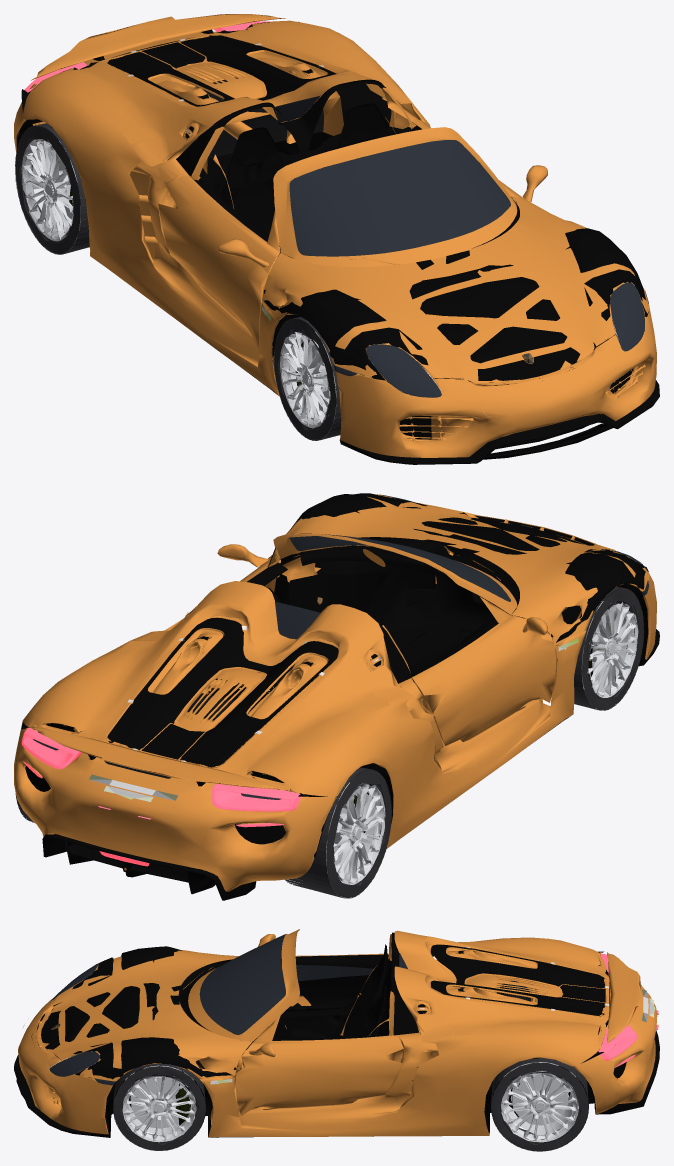
3 views of the same model, one above another, from view 1: azimuth 30°, elevation 25°; view 2: azimuth 150°, elevation 25°; view 3: azimuth 270°, elevation 25° (orthographic). The views are drawn at different scales.
Parts seen in each view (by area): view 1: p:Kit1_Badge_Geo_lodA_Kit1_Badge_Geo_lodA_Porsche_918SpyderR, p918_wheel_RR.001, p918_wheel_FR.001; view 2: p:Kit1_Badge_Geo_lodA_Kit1_Badge_Geo_lodA_Porsche_918SpyderR, p918_wheel_RR.001, p918_wheel_FR.001; view 3: p:Kit1_Badge_Geo_lodA_Kit1_Badge_Geo_lodA_Porsche_918SpyderR, p918_wheel_RL.001, p918_wheel_FL.001.
Part boxes in pixels (left/top/right/bottom): p:Kit1_Badge_Geo_lodA_Kit1_Badge_Geo_lodA_Porsche_918SpyderR: left=14, top=14, right=659, bottom=464; p918_wheel_RR.001: left=15, top=123, right=89, bottom=254; p918_wheel_FR.001: left=274, top=317, right=341, bottom=440; p:Kit1_Badge_Geo_lodA_Kit1_Badge_Geo_lodA_Porsche_918SpyderR: left=14, top=493, right=659, bottom=900; p918_wheel_RR.001: left=285, top=767, right=391, bottom=898; p918_wheel_FR.001: left=574, top=586, right=644, bottom=710; p:Kit1_Badge_Geo_lodA_Kit1_Badge_Geo_lodA_Porsche_918SpyderR: left=14, top=929, right=659, bottom=1137; p918_wheel_RL.001: left=491, top=1058, right=588, bottom=1151; p918_wheel_FL.001: left=113, top=1064, right=205, bottom=1150.
Bounding box in the file's own units: 2.02 × 1.13 × 4.63.
